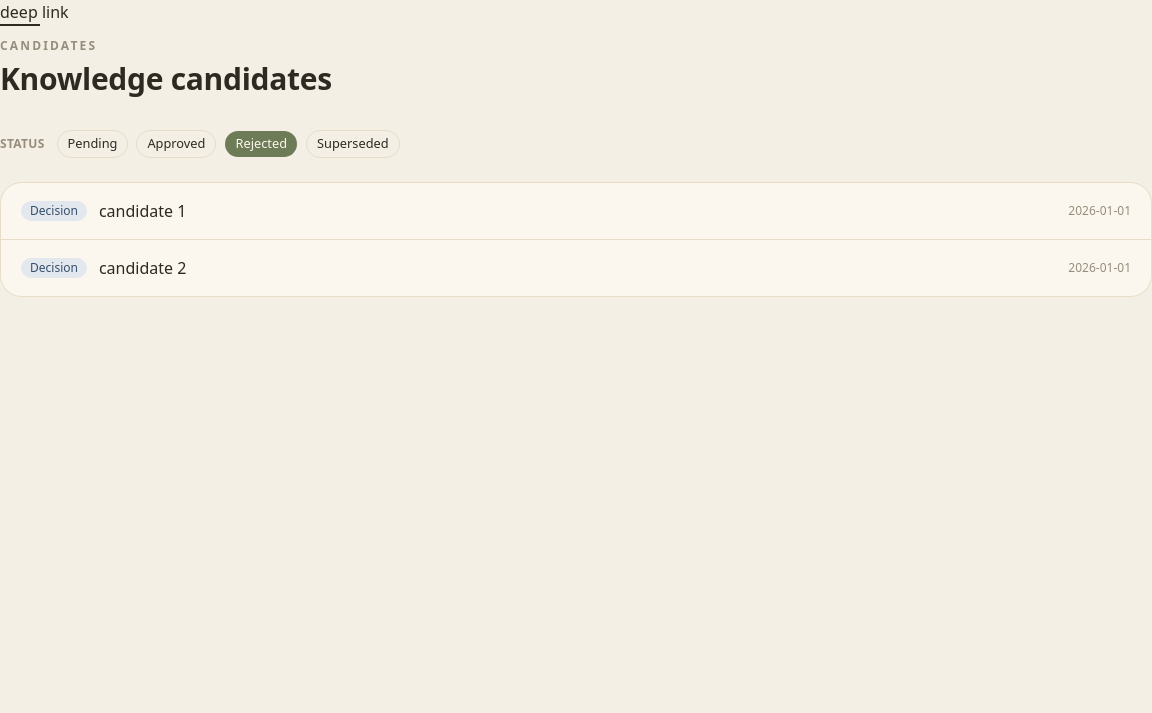
Test case: ReviewQueue › keeps a deep-linked page reached from a shorter queue
Expected: the text "candidate 1" is shown, [99,200,186,222]
Click the link "deep link" at (34, 12), box [0,1,69,23]
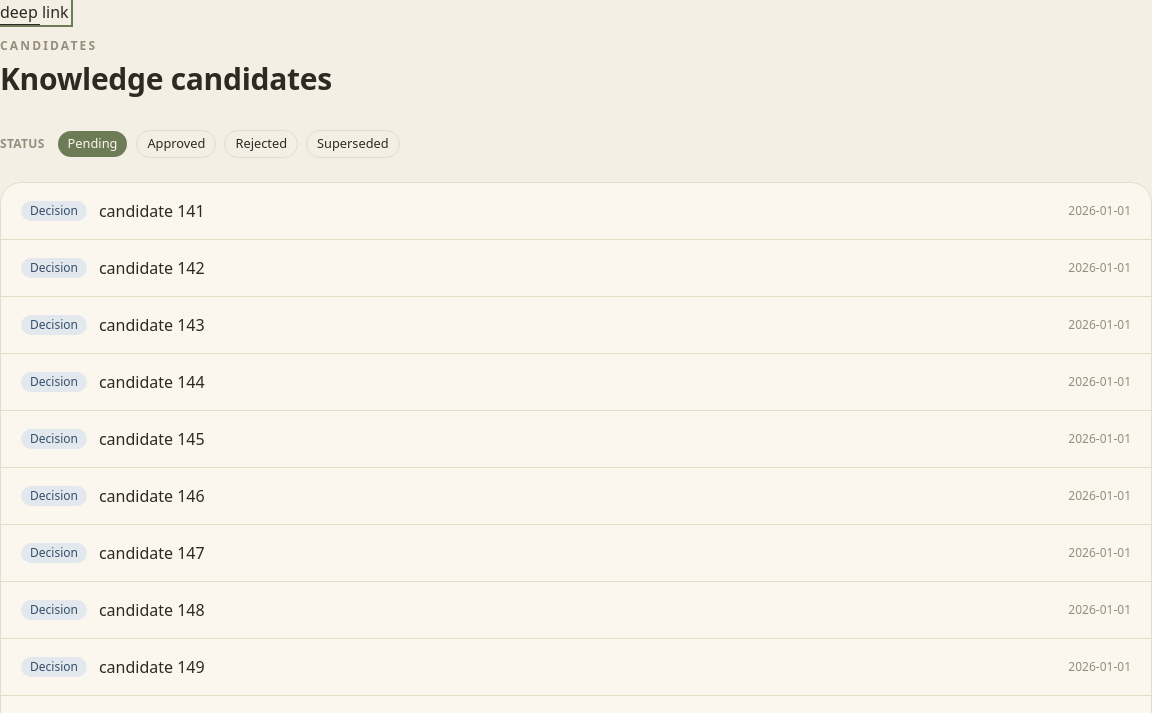
Result: the text "candidate 141" is shown at [99,200,205,222]
